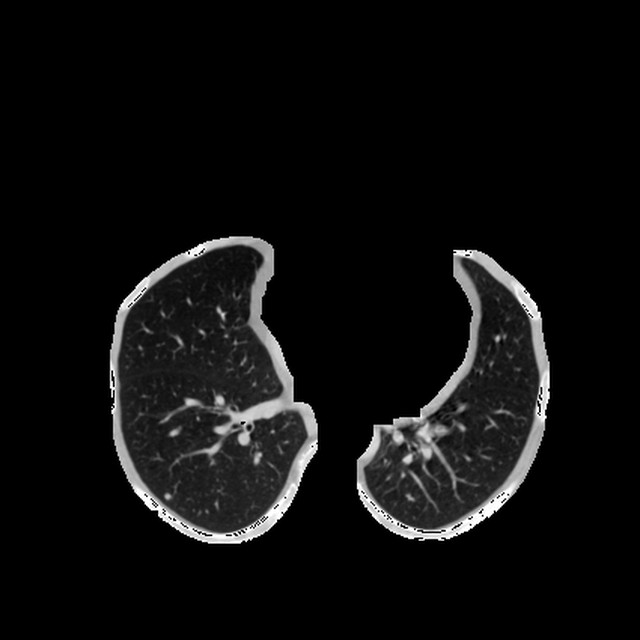PN: (164, 492, 170, 498)
